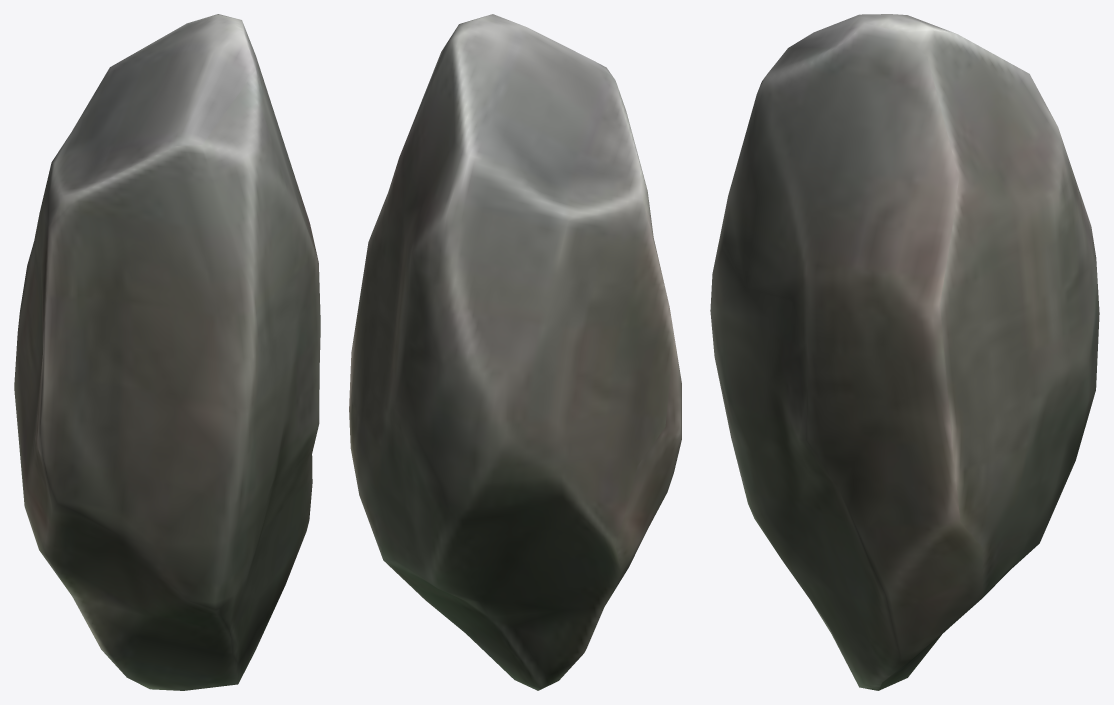
Rendered from sp-stein-7.glb.
3 renders of one model, left to right at view 1: azimuth 30°, elevation 25°; view 2: azimuth 150°, elevation 25°; view 3: azimuth 270°, elevation 25°, orthographic. The views are drawn at different scales.
Parts seen in each view (by area): view 1: sp-stein-7; view 2: sp-stein-7; view 3: sp-stein-7.
Part boxes in pixels (<box>): sp-stein-7: <box>14,14,320,690</box>; sp-stein-7: <box>349,14,681,690</box>; sp-stein-7: <box>710,14,1099,690</box>.
Size of the model in its own units: 0.8489 by 1.77 by 0.9174.
1 material, 1 textured.
